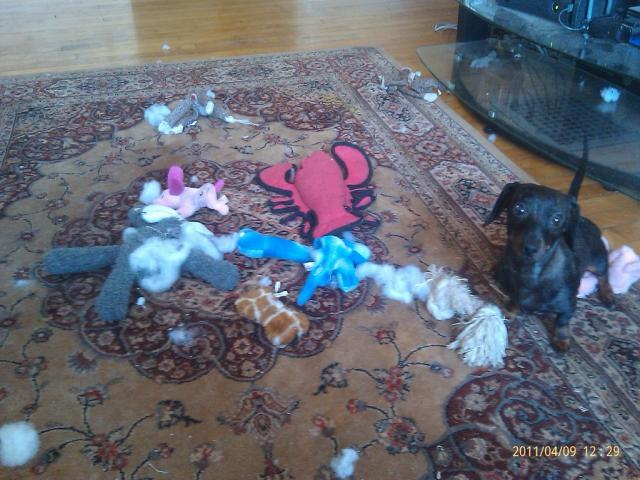Dog: (485, 139, 619, 356)
